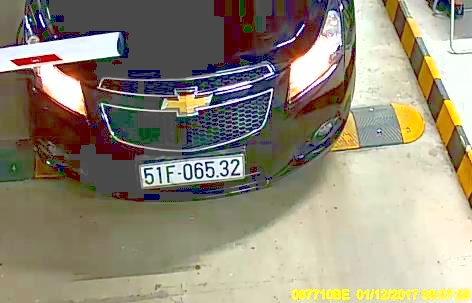plate: (137, 156, 244, 183)
